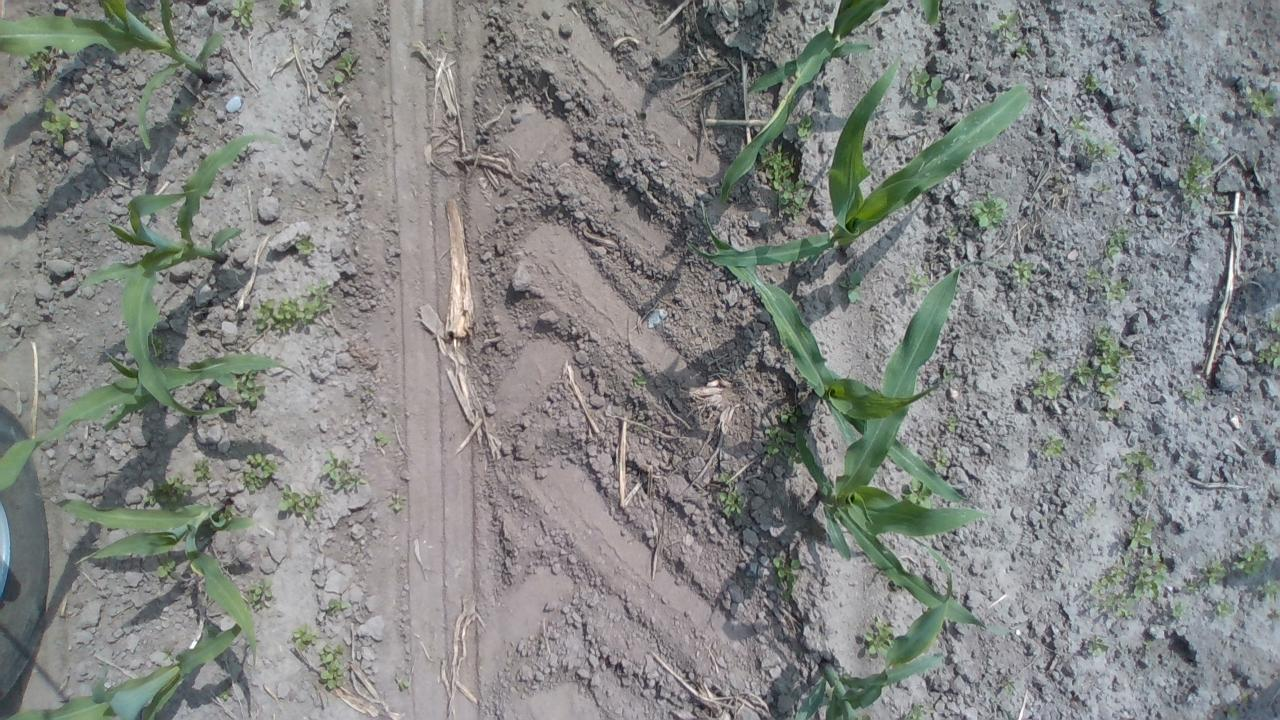Maize: (796, 260, 1012, 638), (700, 200, 969, 503), (692, 52, 1030, 266), (83, 134, 289, 420), (0, 350, 306, 498), (720, 0, 941, 203), (50, 490, 260, 666), (0, 0, 227, 148), (777, 537, 954, 720), (0, 621, 243, 720)
Weeds: (1088, 552, 1168, 618), (754, 142, 809, 222), (254, 280, 332, 335), (1092, 326, 1132, 398), (39, 94, 81, 148), (1178, 150, 1214, 210), (142, 476, 192, 512), (278, 483, 322, 522), (322, 450, 362, 492), (764, 426, 804, 467), (241, 453, 278, 492), (971, 192, 1008, 230), (910, 66, 941, 108), (772, 556, 801, 600), (318, 644, 345, 690), (1234, 541, 1268, 577), (326, 52, 358, 88), (864, 618, 894, 656), (1244, 84, 1276, 116), (901, 478, 933, 509), (1104, 226, 1130, 264), (237, 371, 264, 407), (1032, 369, 1062, 400), (1128, 516, 1155, 549), (989, 12, 1018, 42), (1120, 450, 1156, 473), (1117, 472, 1145, 500), (1184, 113, 1208, 145), (838, 270, 862, 302), (247, 579, 272, 608), (1084, 136, 1118, 157), (21, 46, 48, 72), (719, 490, 746, 516), (292, 622, 316, 650), (1102, 278, 1130, 302), (231, 0, 255, 27), (1258, 340, 1280, 369), (155, 552, 177, 579), (907, 266, 929, 293), (146, 330, 167, 358), (1072, 358, 1092, 387), (1012, 259, 1034, 285), (1204, 560, 1226, 586), (128, 8, 156, 28), (1259, 578, 1280, 604), (794, 114, 815, 138), (1183, 385, 1205, 406), (1044, 435, 1064, 457), (1087, 636, 1108, 656), (192, 460, 212, 480), (1170, 600, 1189, 620), (1067, 114, 1087, 132), (294, 238, 315, 255), (176, 104, 194, 123), (717, 469, 735, 488), (904, 703, 924, 720), (778, 406, 798, 423), (202, 386, 220, 404), (1218, 600, 1234, 620), (328, 598, 350, 612), (1028, 348, 1046, 365), (221, 398, 237, 417), (934, 446, 946, 470), (213, 506, 236, 518), (1084, 72, 1098, 90), (1086, 266, 1100, 284), (1268, 311, 1280, 332), (278, 0, 300, 11), (633, 370, 648, 386), (376, 430, 390, 446), (946, 224, 960, 240), (160, 646, 174, 660), (218, 687, 234, 699), (1015, 42, 1028, 56), (394, 496, 406, 510), (1090, 185, 1110, 193), (1084, 506, 1096, 519), (947, 417, 958, 431), (1104, 409, 1118, 420), (1003, 679, 1014, 692), (943, 369, 954, 379), (399, 681, 410, 690), (1144, 638, 1152, 650), (1188, 582, 1196, 590), (438, 32, 445, 40)
